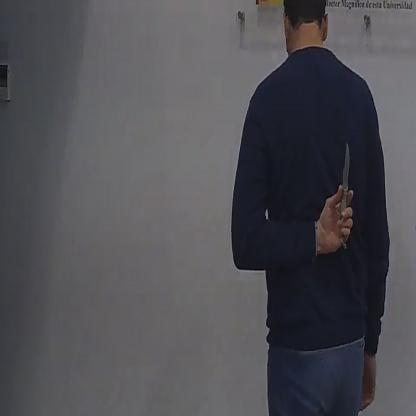knife: (334, 135, 356, 250)
